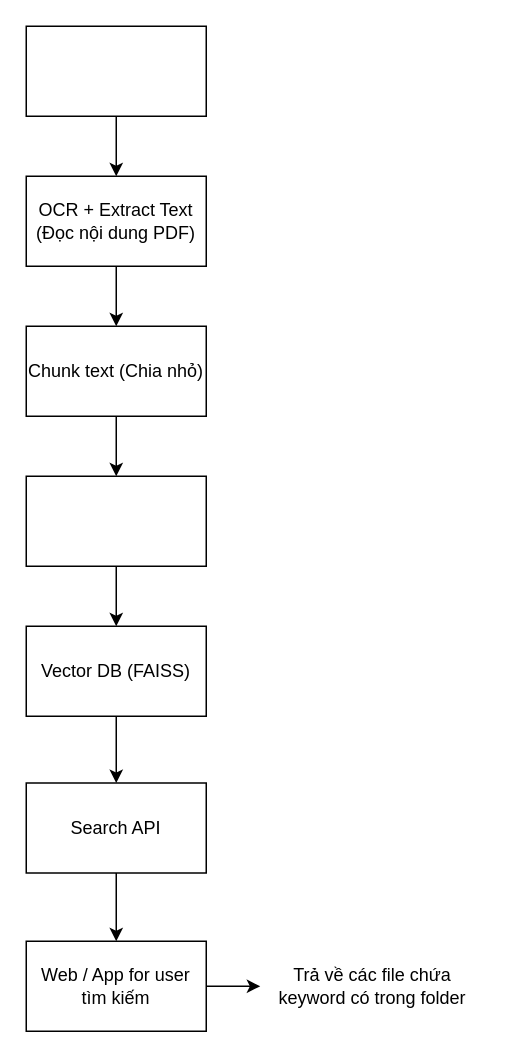
Image size: 512x1058. Some labels were removed from this diagram. Each missing label, with the centre of its shape:
"Embedding" goes at point (115, 520).
"PDF Folder" goes at point (115, 70).
